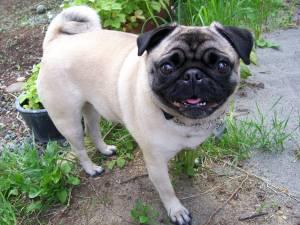dog-pug: (136, 20, 251, 117)
